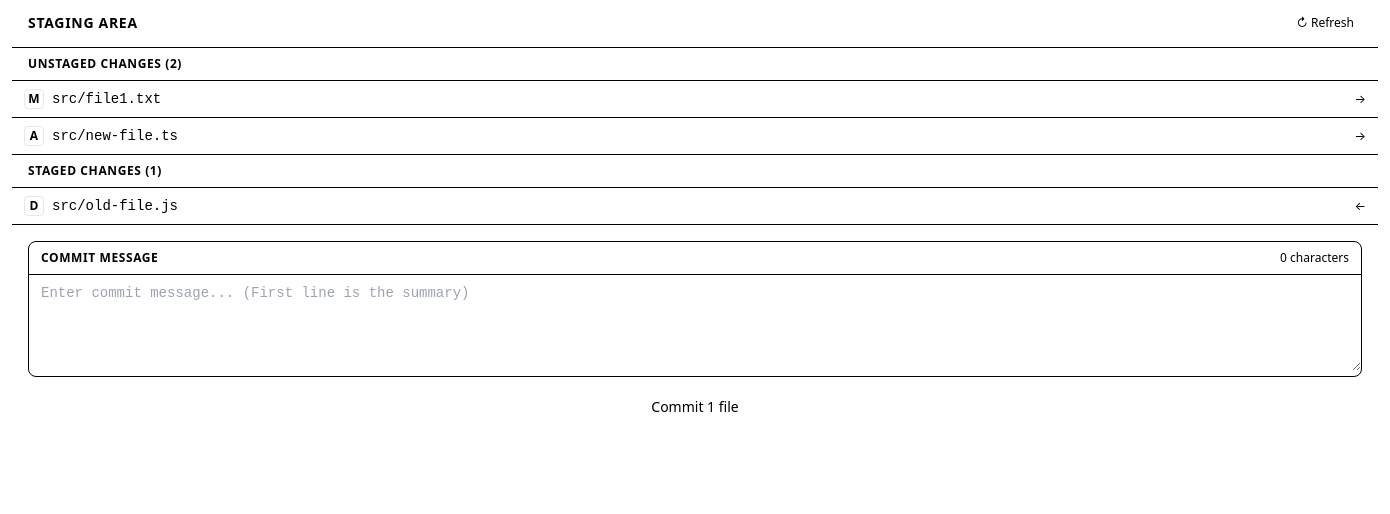
Scenario: StagingArea component › unstages a staged file when clicking a staged file and updates lists
The image size is (1390, 514).
// click to unstage
Click the text "src/old-file.js": coordinates (115, 206) [52, 198, 178, 214]
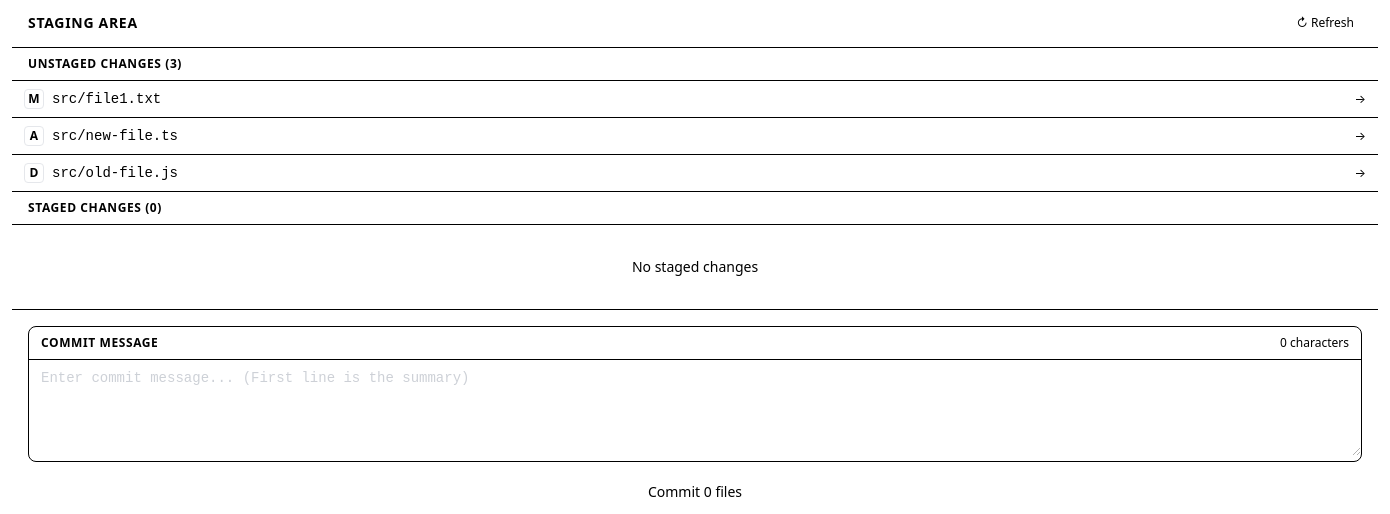
Now the heading "Staged Changes (0)" is shown, box [28, 199, 162, 216]
Now the heading "Unstaged Changes (3)" is shown, box [28, 55, 182, 72]
